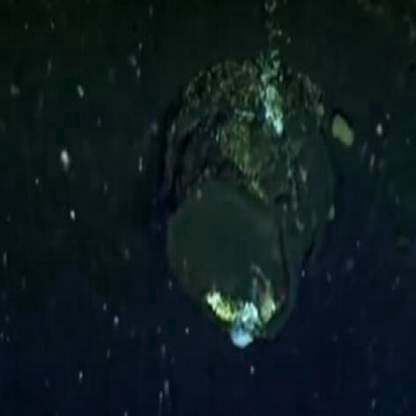misc: (174, 77, 342, 346)
